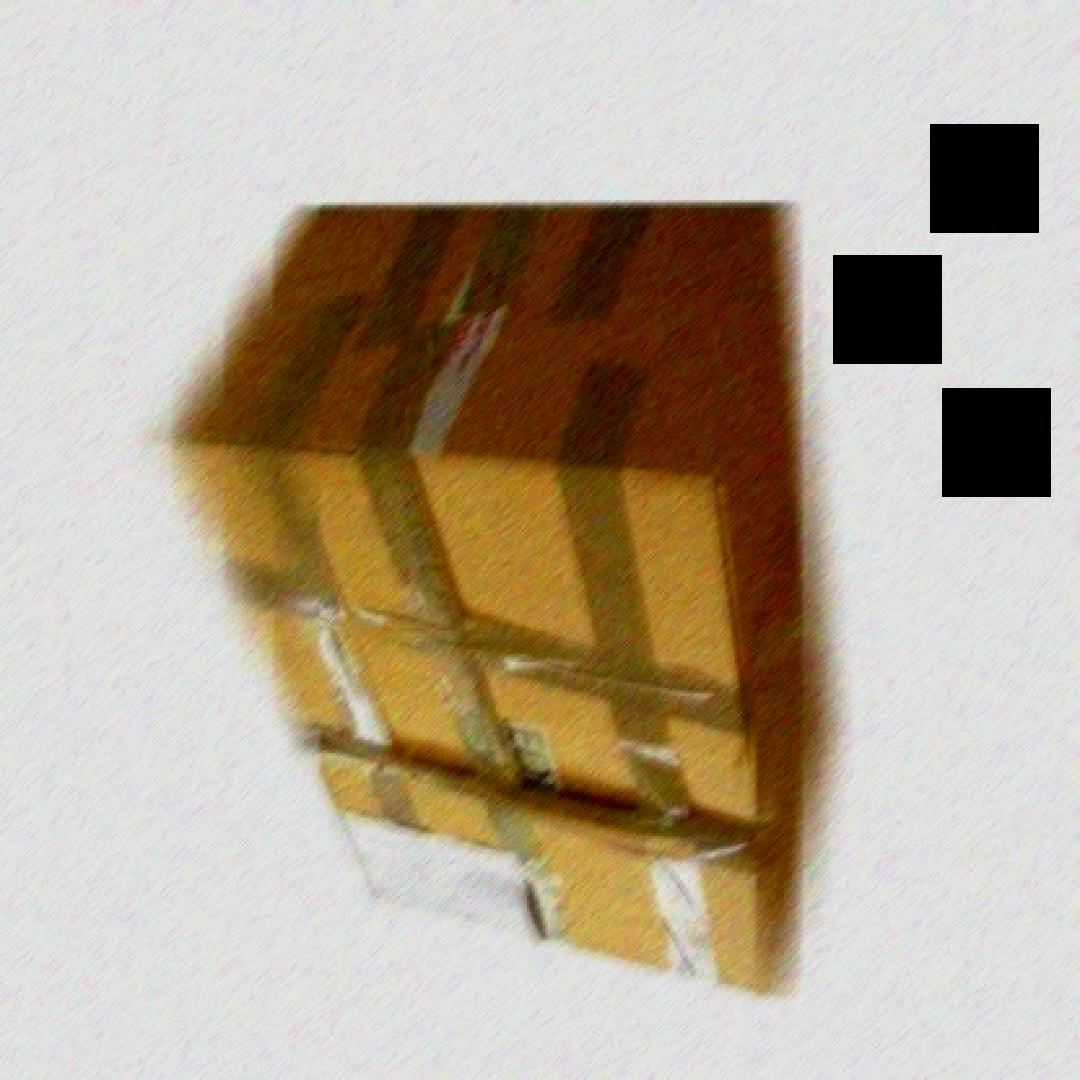package: (176, 195, 882, 1007)
